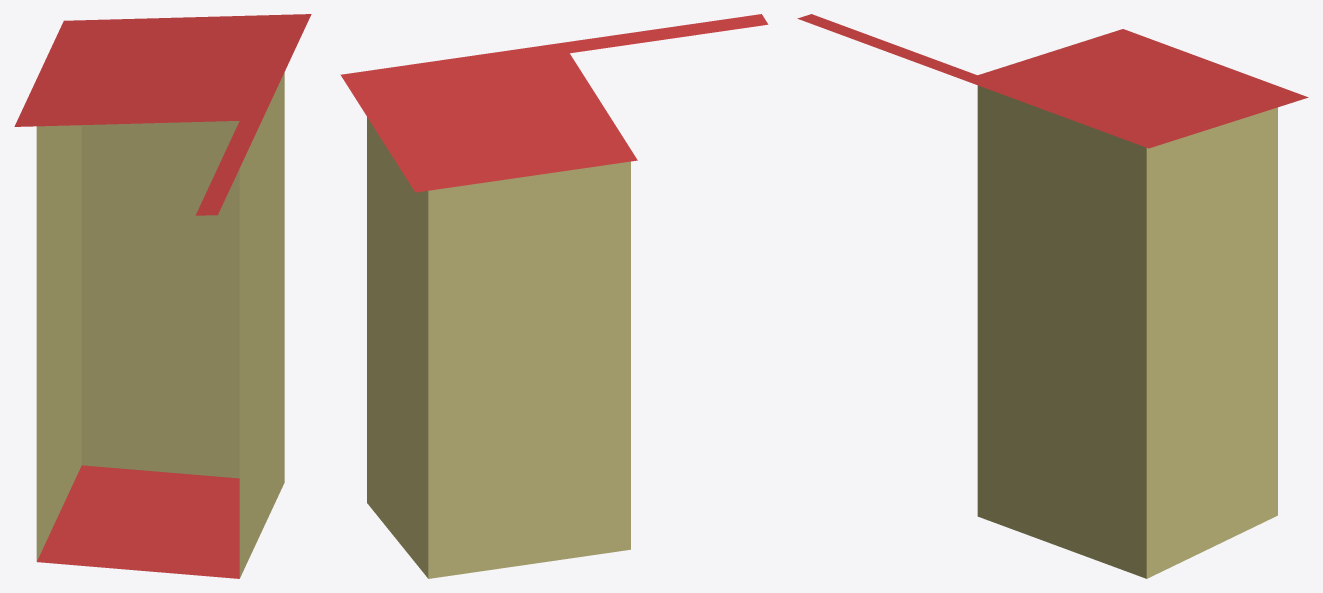
3 renders of one model, left to right at view 1: azimuth 30°, elevation 25°; view 2: azimuth 150°, elevation 25°; view 3: azimuth 270°, elevation 25°, orthographic. The views are drawn at different scales.
Size of the model in its own units: 3.93 by 5.82 by 5.57.
